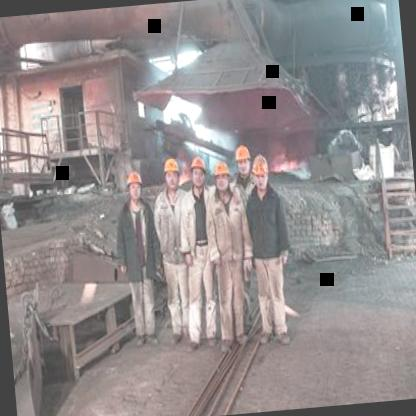helmet: (186, 152, 210, 192), (124, 166, 146, 206), (212, 160, 236, 195), (250, 154, 271, 192), (162, 156, 183, 192), (235, 142, 254, 178)
